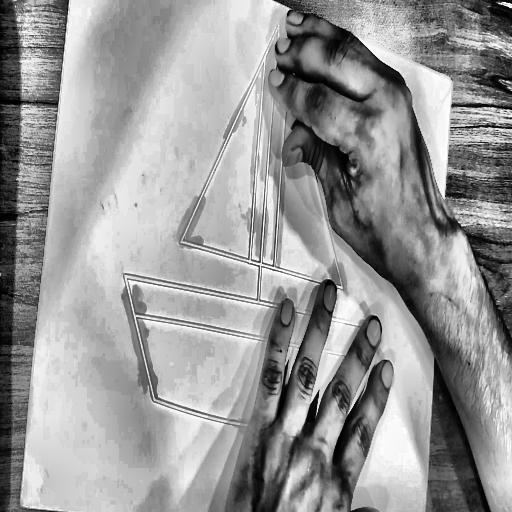boat: (105, 0, 413, 466)
bottom_left: (16, 497, 26, 511)
top_right: (447, 72, 456, 89)
